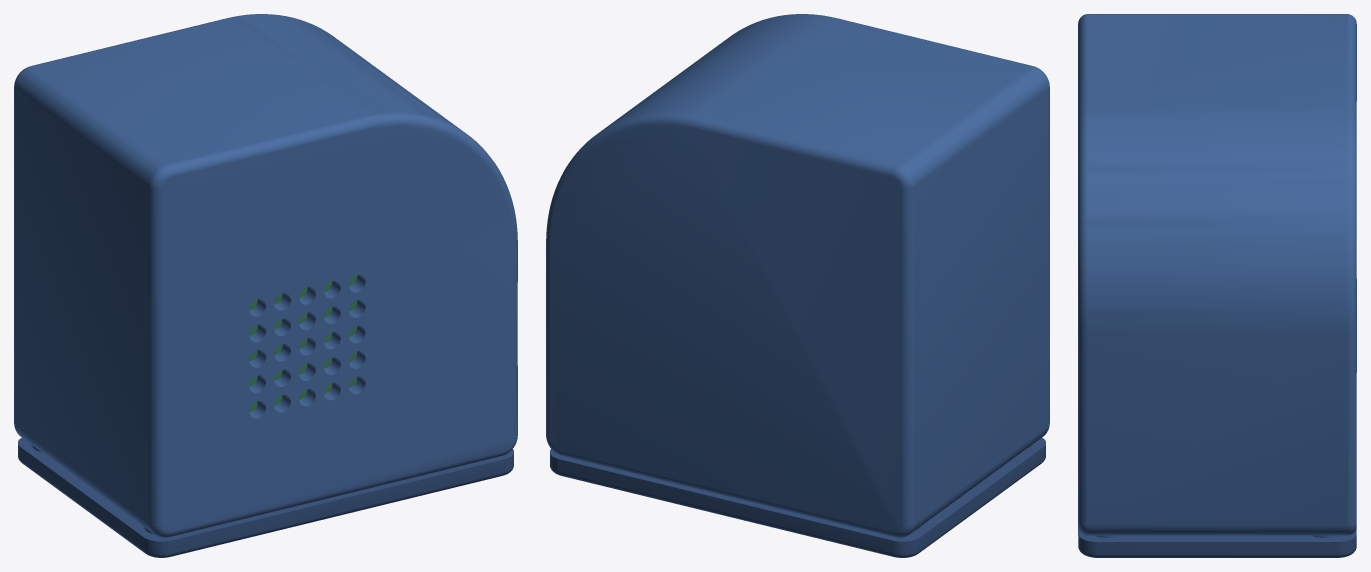
Rendered from microbit_cube.glb.
3 renders of one model, left to right at view 1: azimuth 30°, elevation 25°; view 2: azimuth 150°, elevation 25°; view 3: azimuth 270°, elevation 25°, orthographic. The views are drawn at different scales.
Visible parts, largest first — view 1: shell, base, board; view 2: shell, base; view 3: shell, base.
Part boxes in pixels (x1=…): shell: x1=14, y1=14, x2=517, y2=537; base: x1=18, y1=438, x2=513, y2=557; board: x1=249, y1=275, x2=357, y2=412; shell: x1=546, y1=14, x2=1049, y2=537; base: x1=550, y1=438, x2=1045, y2=557; shell: x1=1078, y1=14, x2=1356, y2=538; base: x1=1078, y1=474, x2=1356, y2=557.
Bounding box in the file's own units: 62 × 63 × 42.
